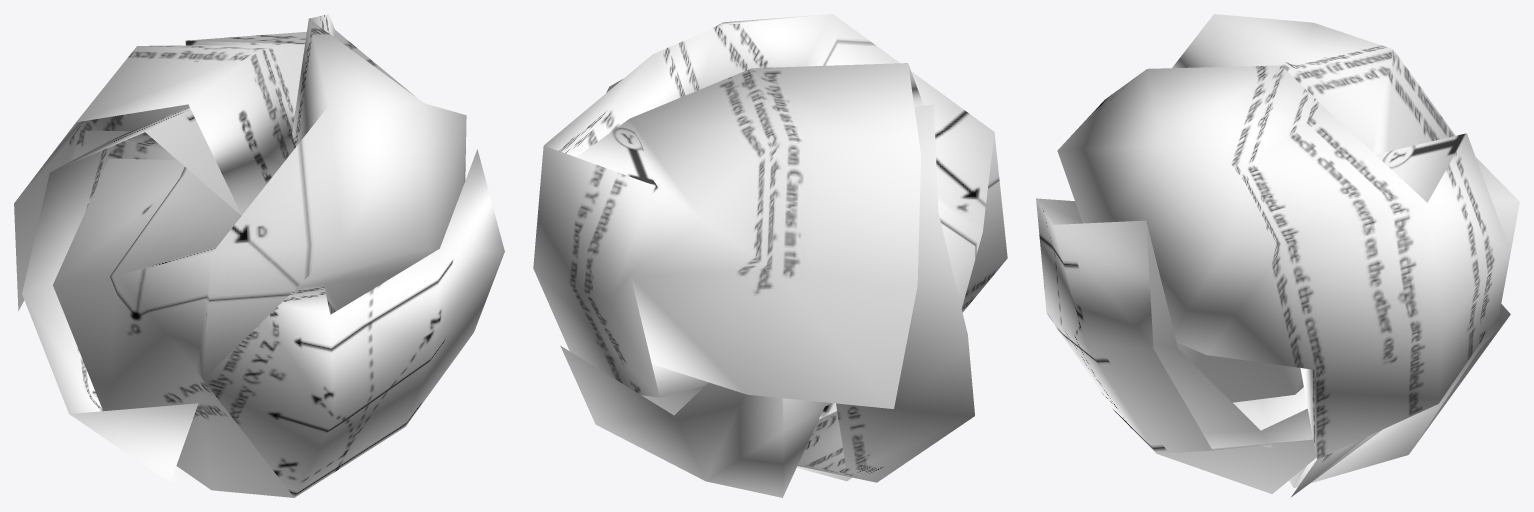
The model's file is paperball1.fbx.
The picture shows the model from 3 angles, left to right: view 1: azimuth 30°, elevation 25°; view 2: azimuth 150°, elevation 25°; view 3: azimuth 270°, elevation 25°; orthographic projection.
Parts seen in each view (by area): view 1: Plane; view 2: Plane; view 3: Plane.
Part boxes in pixels (<box>): Plane: <box>14,14,504,497</box>; Plane: <box>533,14,1007,497</box>; Plane: <box>1036,14,1519,497</box>.
Size of the model in its own units: 0.8107 by 0.7924 by 0.8013.
Materials: 1 (1 with a texture image).
